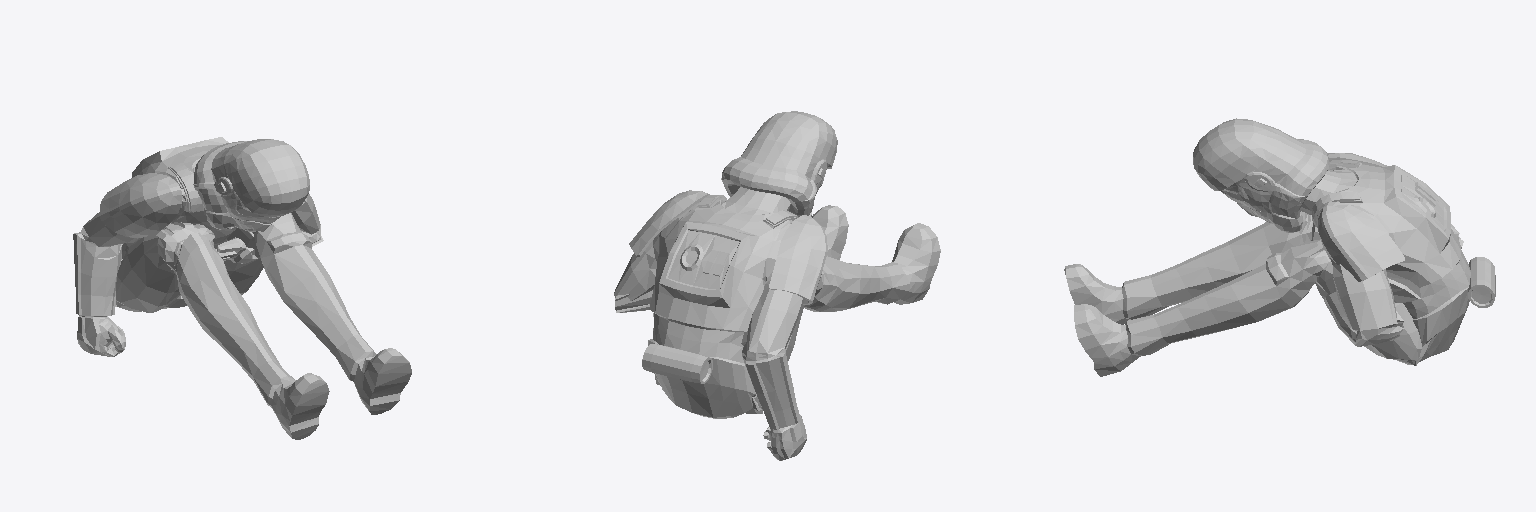
File: Move_000270.obj
3 renders of one model, left to right at view 1: azimuth 30°, elevation 25°; view 2: azimuth 150°, elevation 25°; view 3: azimuth 270°, elevation 25°, orthographic.
Bounding box in the file's own units: 1.37 × 1.59 × 2.43.